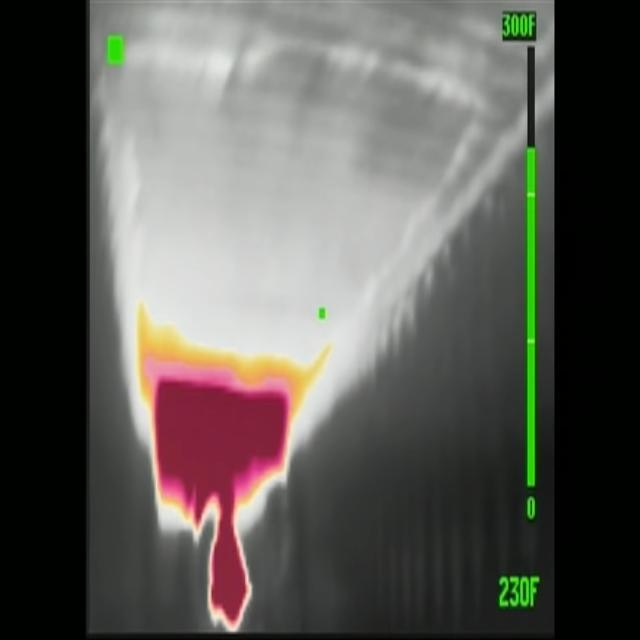fire: (153, 355, 294, 636)
